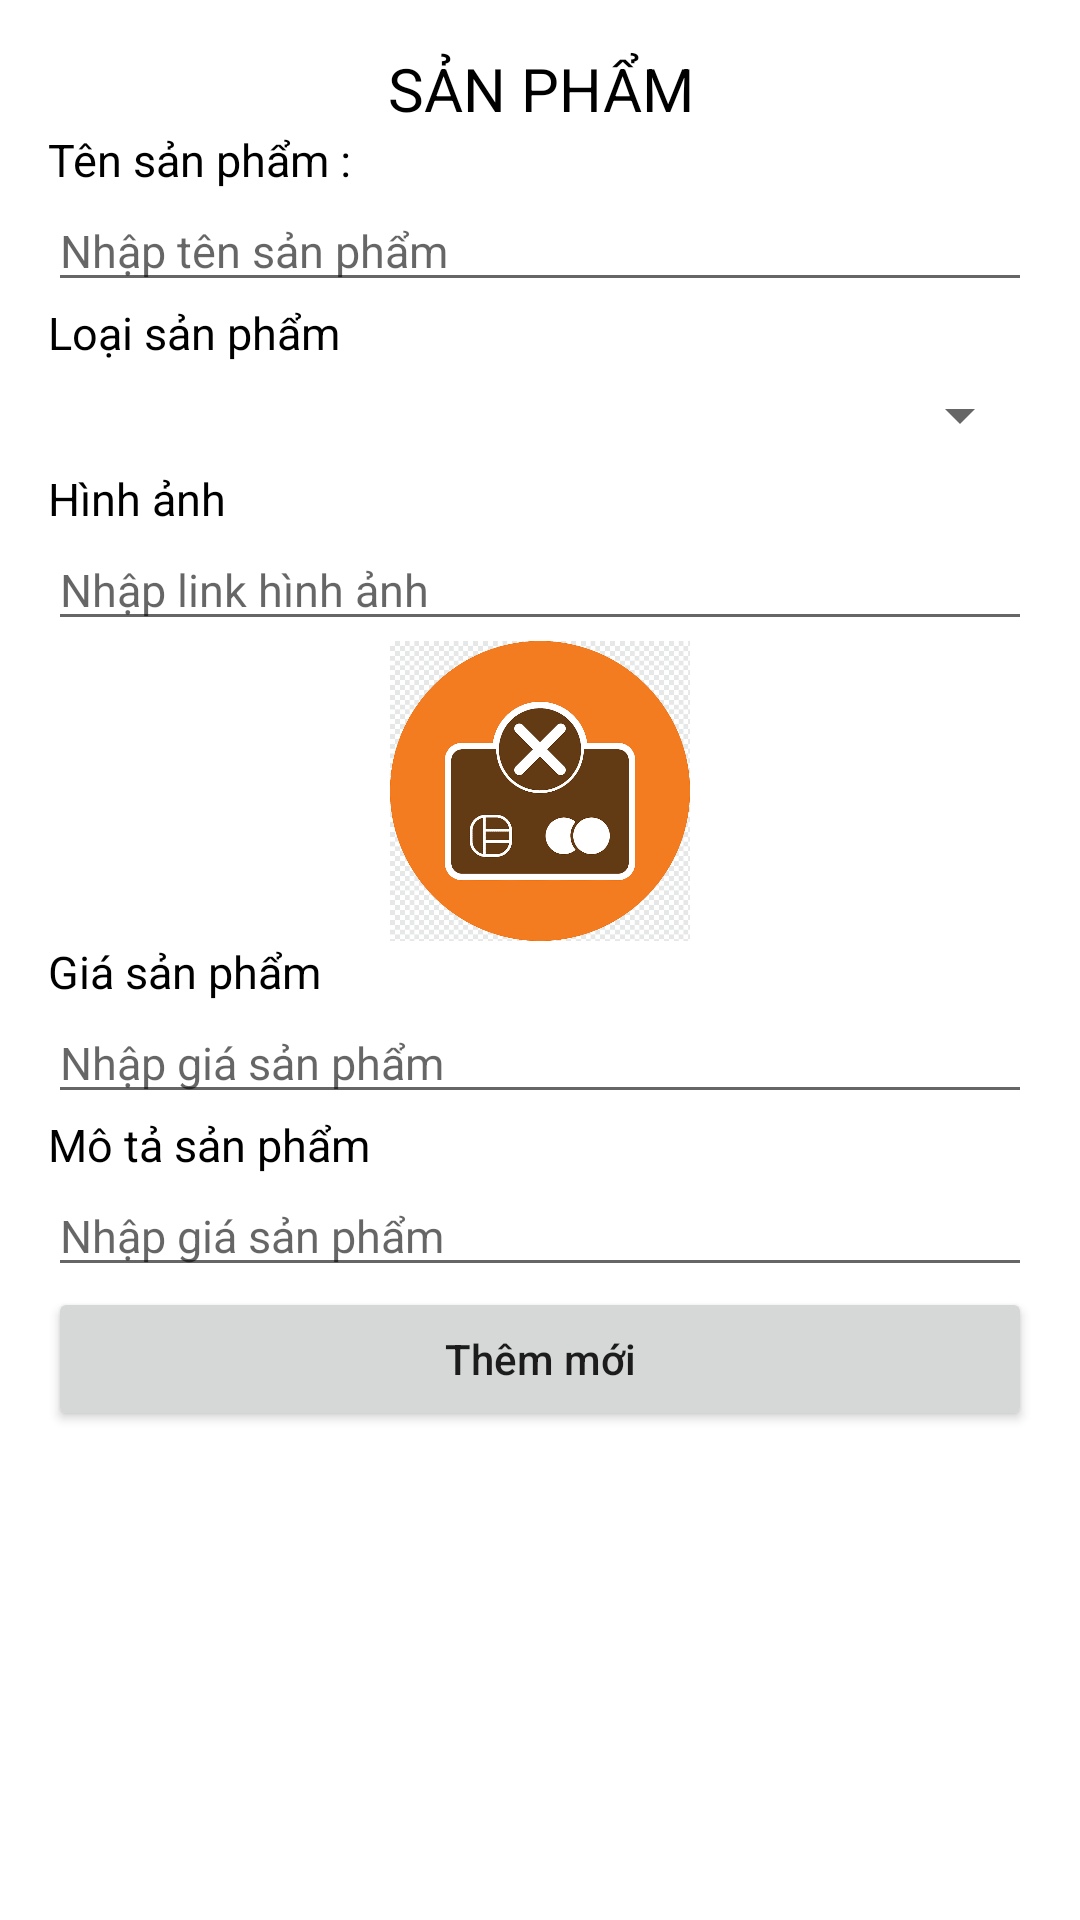

Screen size 1080px x 1920px. Icon name, then its center in pixels as [x,y]:
loadfail: [540,791]
